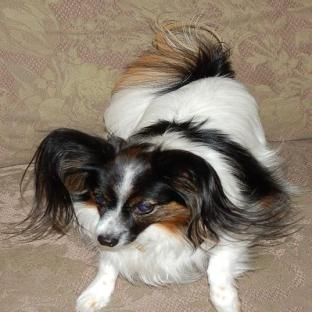Animal: (23, 22, 293, 311)
